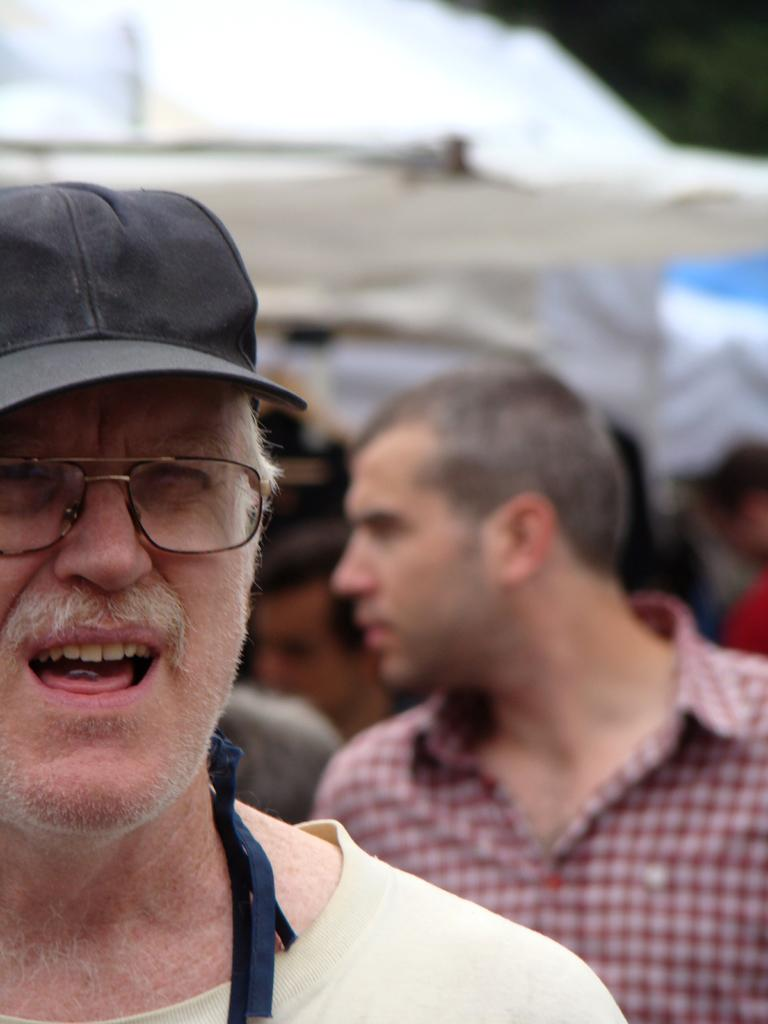Hat: (0, 178, 312, 420)
